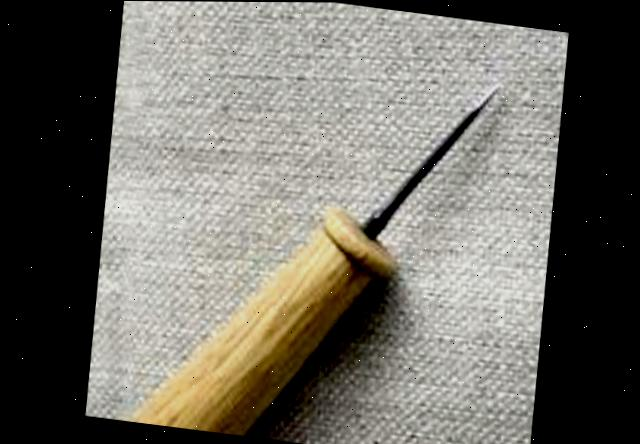ice pick: (111, 50, 507, 444)
